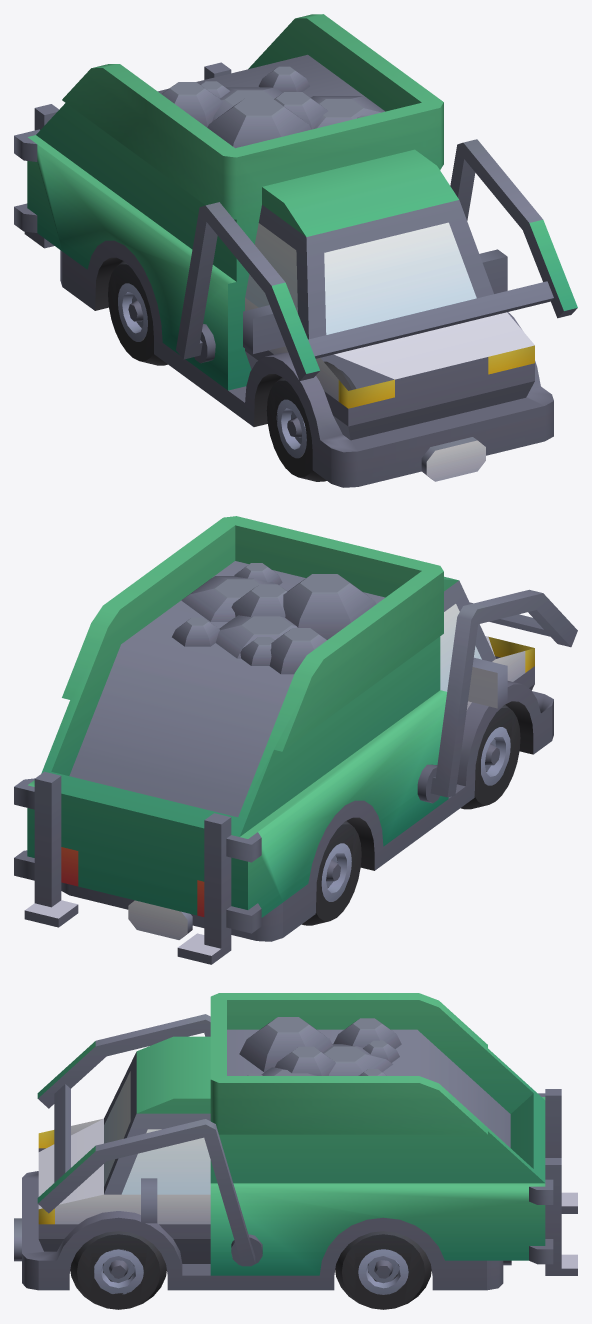
File: traffic_garbage.glb
The picture shows the model from 3 angles, top to bottom: view 1: azimuth 30°, elevation 25°; view 2: azimuth 150°, elevation 25°; view 3: azimuth 270°, elevation 25°; orthographic projection. The views are drawn at different scales.
Visible parts, largest first — view 1: arm; view 2: arm; view 3: arm.
Part boxes in pixels (x1,y1,x2,y2): arm: (14,14,577,487); arm: (14,516,577,964); arm: (14,993,577,1309).
Bounding box in the file's own units: 1.6 × 1.6 × 3.45.
Materials: 1 (1 with a texture image).
